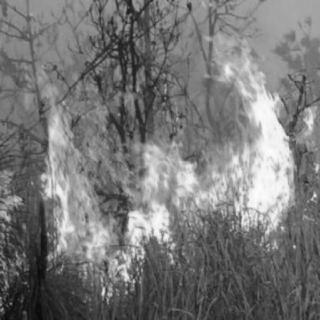Fire: (2, 11, 316, 307)
